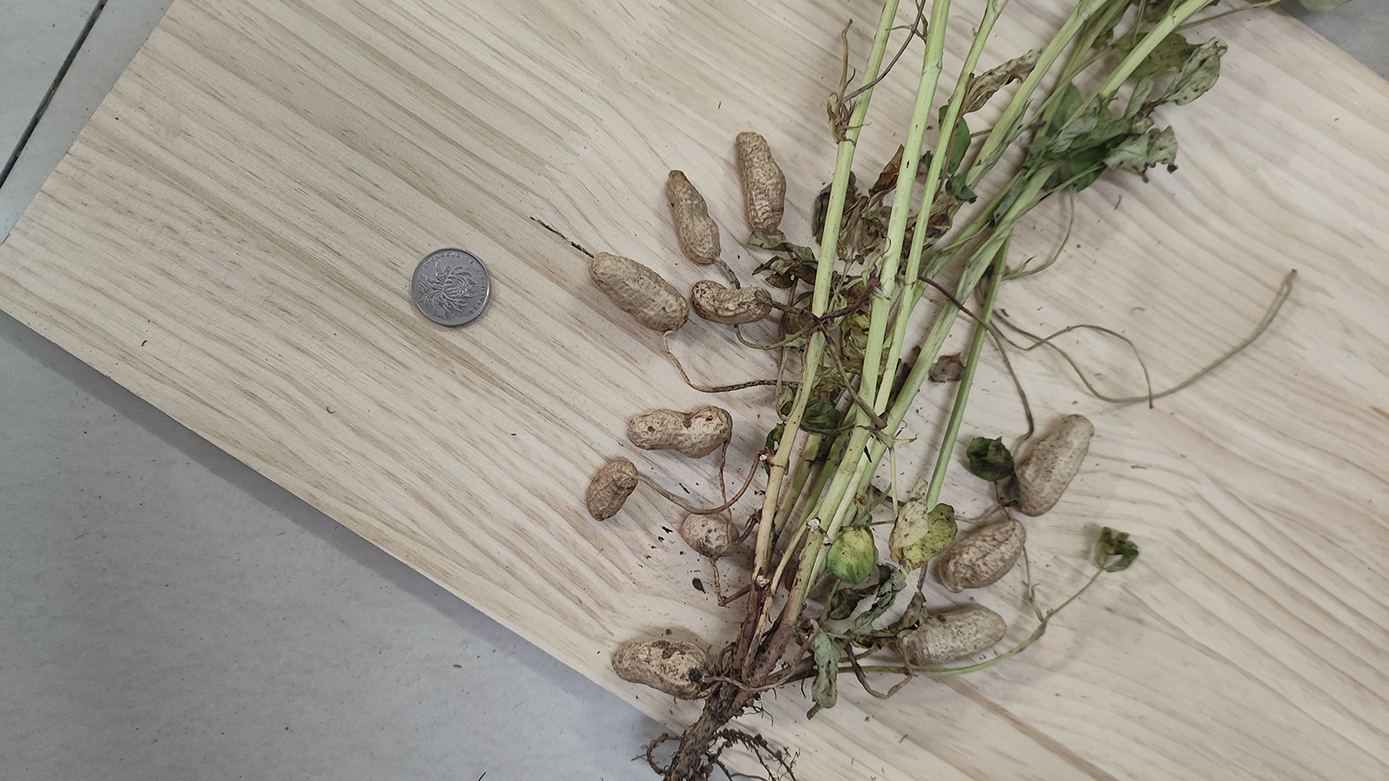h: (1013, 414, 1096, 515), (589, 252, 688, 332), (901, 603, 1009, 666), (939, 520, 1025, 591), (624, 405, 734, 456), (612, 639, 708, 697), (666, 170, 722, 265), (736, 132, 787, 232), (692, 279, 775, 326), (585, 457, 640, 522), (682, 511, 740, 556)
